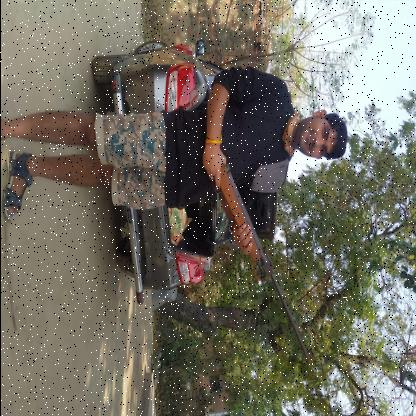rifle: (202, 148, 312, 370)
